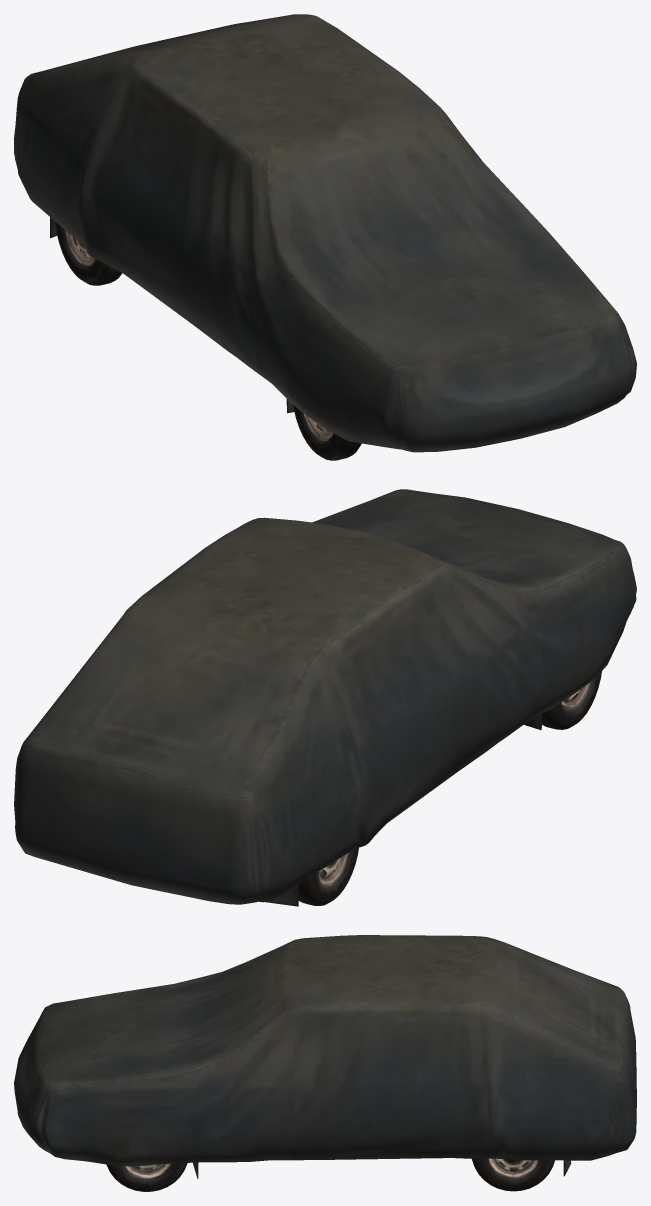
The model's file is covered_car.glb.
3 renders of one model, top to bottom at view 1: azimuth 30°, elevation 25°; view 2: azimuth 150°, elevation 25°; view 3: azimuth 270°, elevation 25°, orthographic. The views are drawn at different scales.
Visible parts, largest first — view 1: covered_car_wheel_01; view 2: covered_car_wheel_01; view 3: covered_car_wheel_01.
Part boxes in pixels (x1,y1,x2,y2): covered_car_wheel_01: (14,14,636,460); covered_car_wheel_01: (14,489,636,906); covered_car_wheel_01: (14,935,636,1191).
Bounding box in the file's own units: 1.79 × 1.41 × 4.38.
1 material, 1 textured.
